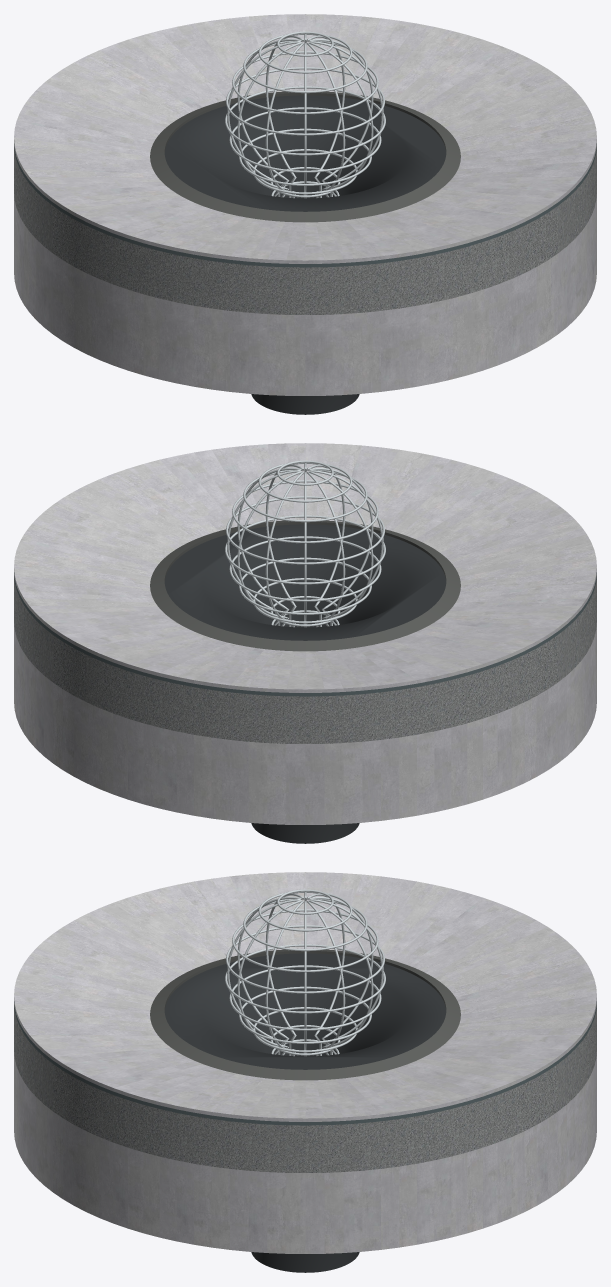
The model's file is cast-iron.glb.
3 views of the same model, one above another, from view 1: azimuth 30°, elevation 25°; view 2: azimuth 150°, elevation 25°; view 3: azimuth 270°, elevation 25° (orthographic).
Parts seen in each view (by area): view 1: 屋面面层, 钢筋混凝土屋面板, 1：2.5水泥砂浆, 铸铁水落口, 镀锌钢丝球, 油膏嵌缝, 防水卷材; view 2: 屋面面层, 钢筋混凝土屋面板, 1：2.5水泥砂浆, 铸铁水落口, 镀锌钢丝球, 油膏嵌缝, 防水卷材; view 3: 屋面面层, 钢筋混凝土屋面板, 1：2.5水泥砂浆, 铸铁水落口, 镀锌钢丝球, 油膏嵌缝, 防水卷材.
Boxes of the visible parts, box(x1,y1,x2,y2) form: 屋面面层: box(14, 14, 596, 263); 钢筋混凝土屋面板: box(14, 194, 596, 395); 1：2.5水泥砂浆: box(14, 147, 596, 314); 铸铁水落口: box(164, 95, 446, 414); 镀锌钢丝球: box(225, 31, 385, 198); 油膏嵌缝: box(150, 91, 460, 222); 防水卷材: box(14, 143, 596, 267); 屋面面层: box(14, 443, 596, 692); 钢筋混凝土屋面板: box(14, 623, 596, 824); 1：2.5水泥砂浆: box(14, 576, 596, 743); 铸铁水落口: box(164, 524, 446, 843); 镀锌钢丝球: box(225, 460, 385, 627); 油膏嵌缝: box(150, 520, 460, 651); 防水卷材: box(14, 572, 596, 696); 屋面面层: box(14, 872, 596, 1121); 钢筋混凝土屋面板: box(14, 1052, 596, 1253); 1：2.5水泥砂浆: box(14, 1005, 596, 1172); 铸铁水落口: box(164, 953, 446, 1272); 镀锌钢丝球: box(225, 889, 385, 1056); 油膏嵌缝: box(150, 949, 460, 1080); 防水卷材: box(14, 1001, 596, 1125).
Size of the model in its own units: 0.6 by 0.3985 by 0.6.
7 materials, 3 textured.
